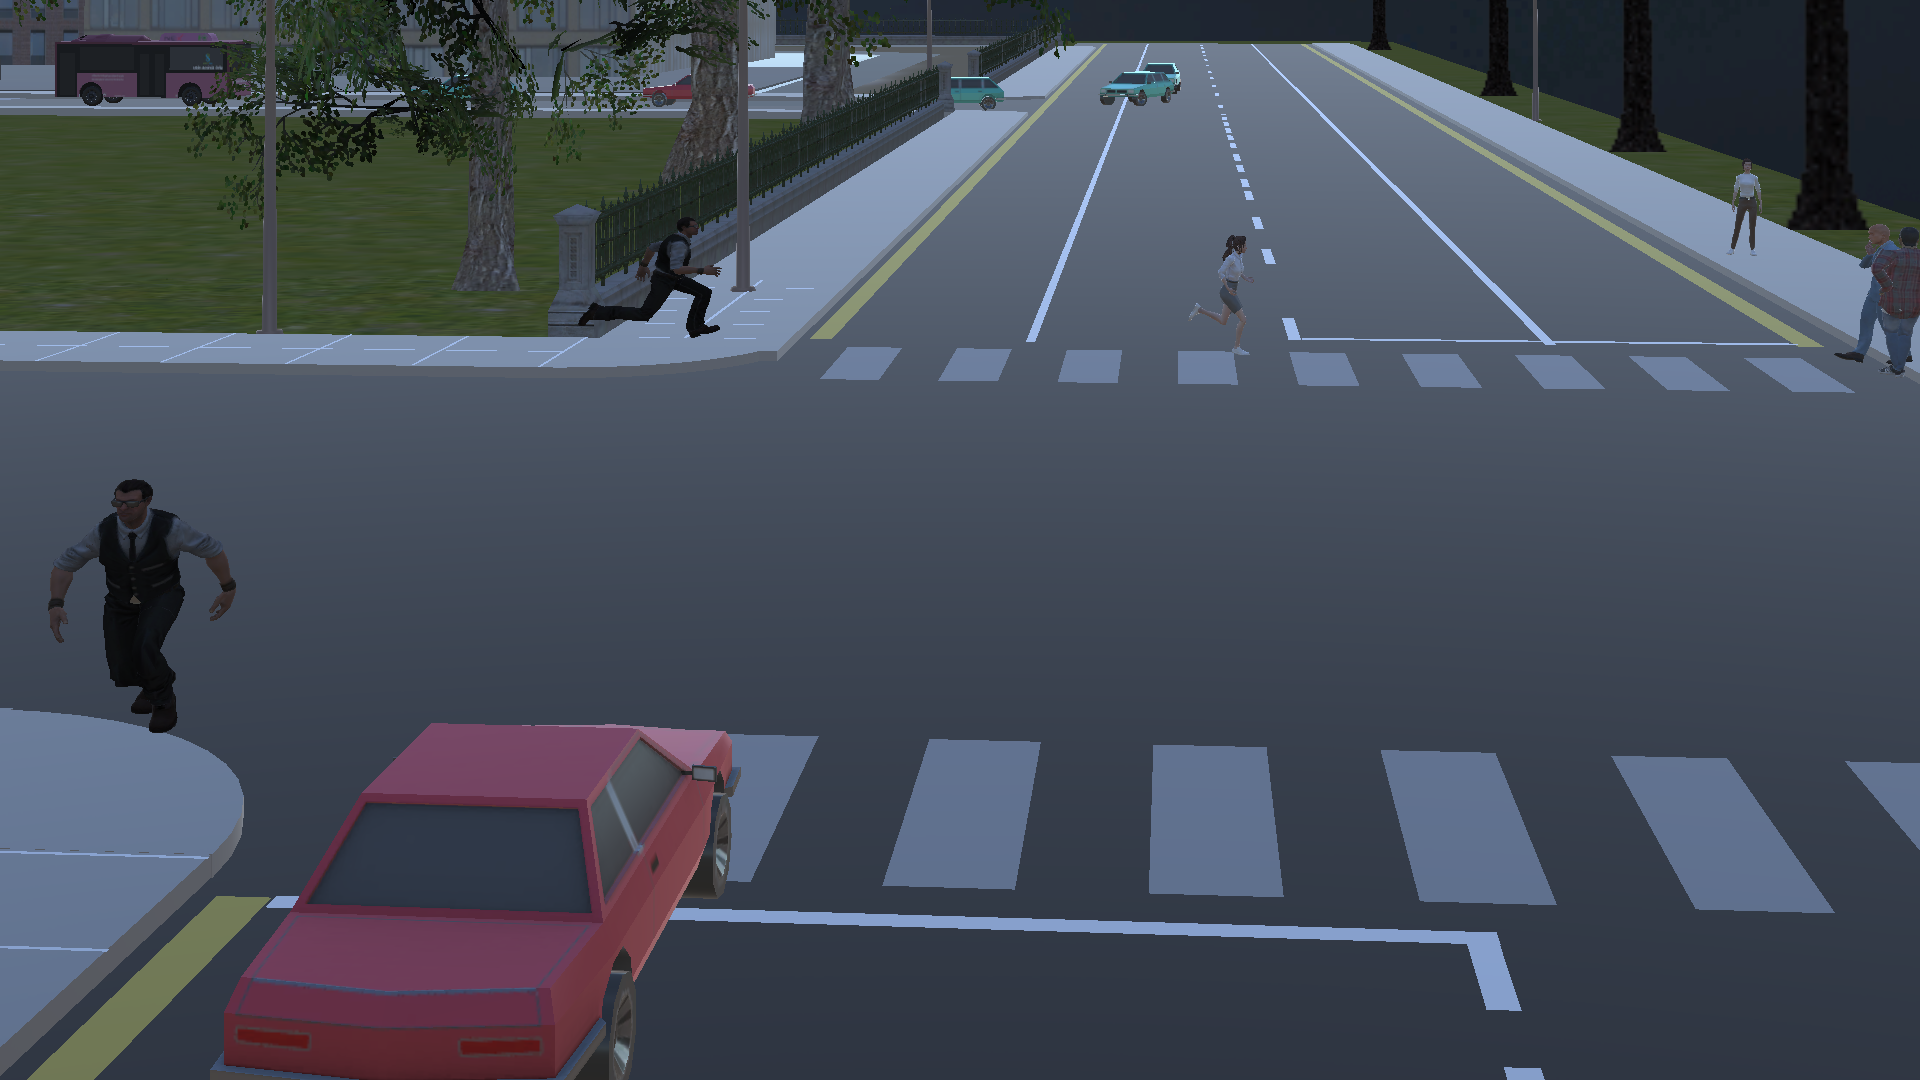pedestrian: (30, 470, 249, 743), (577, 211, 746, 355), (1189, 229, 1272, 368), (1873, 173, 1920, 363), (1848, 205, 1892, 365), (1719, 150, 1767, 254)
